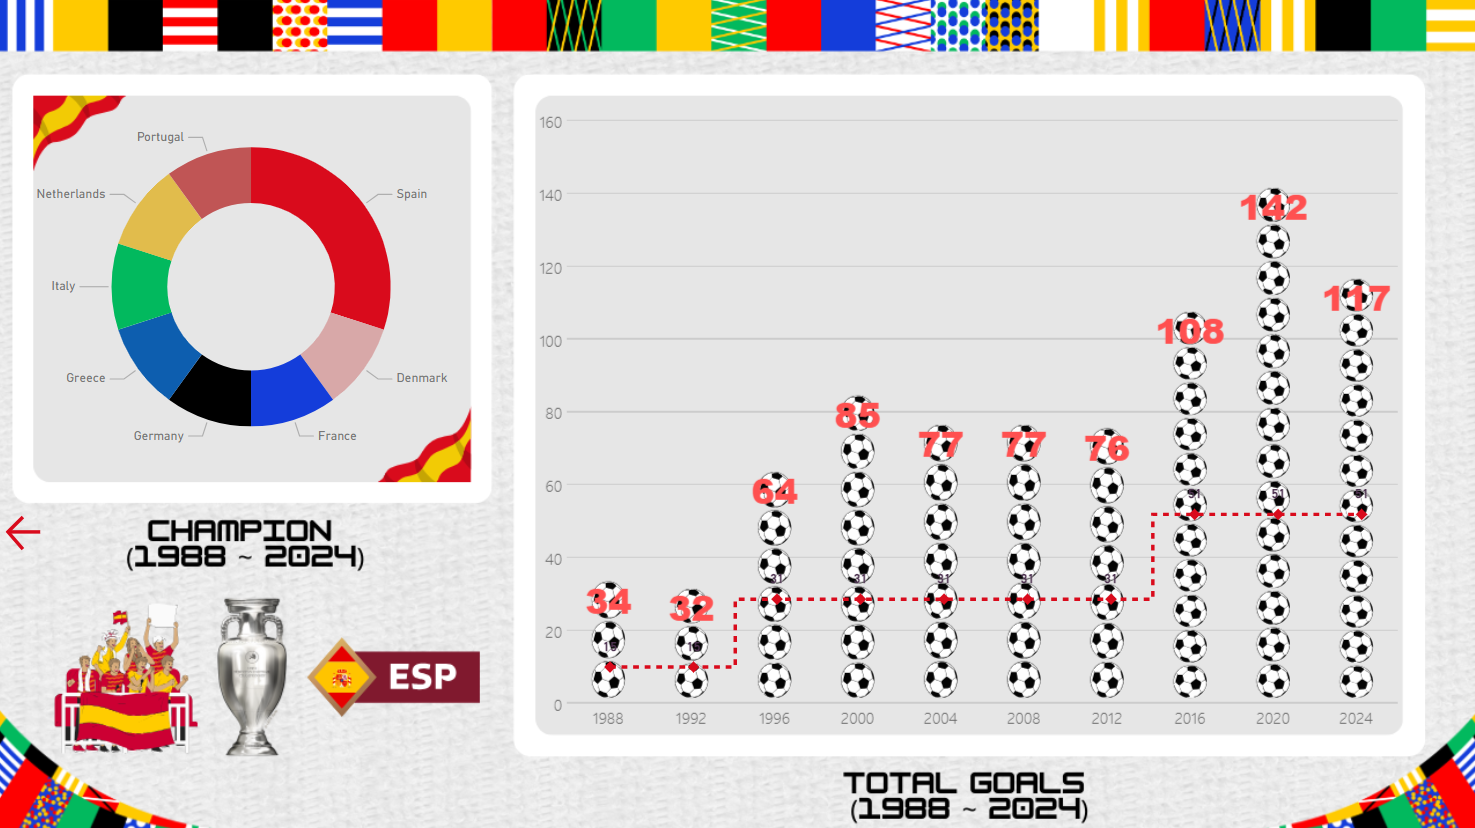

The dashboard page shown, as its layout file describes it:
{"tool":"powerbi","page":{"name":"History","canvas":[1280,720],"ordinal":3},"visuals":[{"type":"group","id":"g1","title":"Group 1","box":[446,80,776,559],"z":0},{"type":"PBI_CV_73744D90_4DC9_4F18_8BA5_EE8FA5C98035","fields":{"Category":["Goal History.Year"],"Values":["Sum(Goal History.Total Goals)"]},"box":[446,80,776,559],"z":0,"group":"g1"},{"type":"donutChart","fields":{"Category":["Goal History.Champion"],"Y":["CountNonNull(Goal History.Year)"]},"box":[23,55,389,385],"z":1000},{"type":"lineChart","fields":{"Category":["Goal History.Year"],"Y":["Sum(Goal History.Total Matches)"]},"box":[458.6,397.1,751.9,203.3],"z":1000,"group":"g1"},{"type":"actionButton","box":[1.9,440.6,41.8,39.9],"z":2000}]}

Visuals, with their boxes in screenshot pixels (x1, y1, x2, y2), scaled from the page's 1280x720 canvas onto the 1475x828 screenshot:
"Group 1" group: (514,92,1408,735)
PBI_CV_73744D90_4DC9_4F18_8BA5_EE8FA5C98035 - Goal History.Year x Sum(Goal History.Total Goals): (514,92,1408,735)
donutChart - Goal History.Champion x CountNonNull(Goal History.Year): (27,63,475,506)
lineChart - Goal History.Year x Sum(Goal History.Total Matches): (528,457,1395,690)
actionButton: (2,507,50,553)
